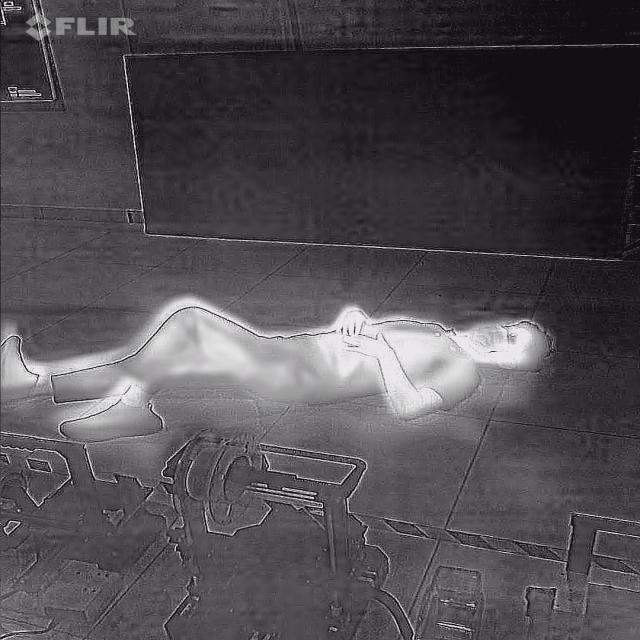Victim: (0, 300, 567, 440)
